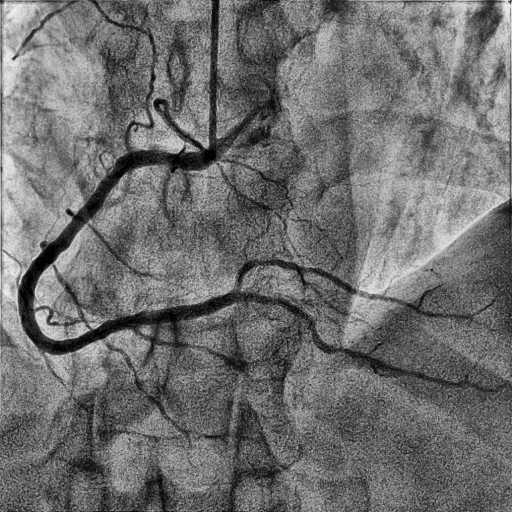pborca: (233, 260, 469, 319)
pda: (240, 292, 507, 394)
rca: (18, 147, 242, 355)
